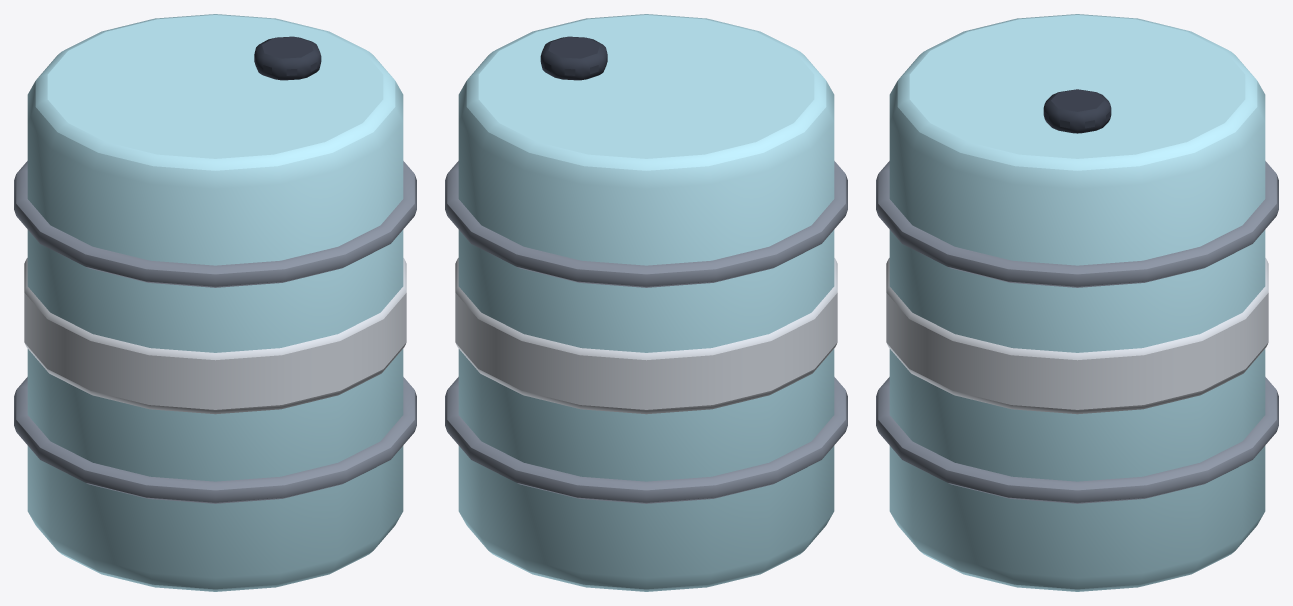
Rendered from ware_elektrolyt.fbx.
3 views of the same model, side by side, from view 1: azimuth 30°, elevation 25°; view 2: azimuth 150°, elevation 25°; view 3: azimuth 270°, elevation 25° (orthographic).
Visible parts, largest first — view 1: ware_elektrolyt_Koerper; view 2: ware_elektrolyt_Koerper; view 3: ware_elektrolyt_Koerper.
Boxes of the visible parts, box(x1,y1,x2,y2) form: ware_elektrolyt_Koerper: box(14, 14, 416, 591); ware_elektrolyt_Koerper: box(445, 14, 847, 591); ware_elektrolyt_Koerper: box(876, 14, 1278, 591).
Bounding box in the file's own units: 0.3432 × 0.42 × 0.338.
